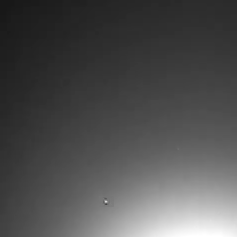Target: (105, 200, 108, 202)
